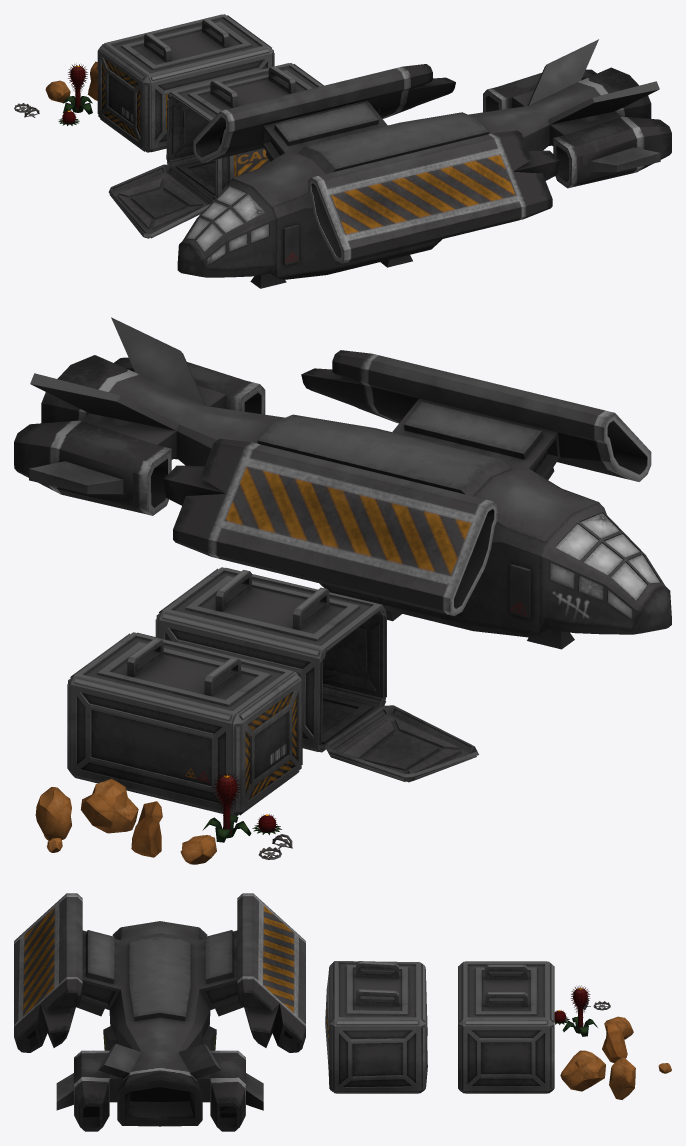
Rendered from AllAssets.fbx.
3 views of the same model, one above another, from view 1: azimuth 30°, elevation 25°; view 2: azimuth 150°, elevation 25°; view 3: azimuth 270°, elevation 25° (orthographic). The views are drawn at different scales.
Parts seen in each view (by area): view 1: Box003, Box002, Box001, Object001, Object002, Cylinder001, Rock1; view 2: Box003, Box002, Box001, Object002, Object001, Rock3, Rock4, Cylinder001, Rock2, Rock1; view 3: Box003, Box001, Box002, Rock3, Rock4, Cylinder001, Rock2.
Boxes of the visible parts, x1,y1,x2,y2 form: Box003: [177, 39, 671, 288]; Box002: [104, 14, 274, 152]; Box001: [166, 63, 323, 199]; Object001: [108, 164, 213, 238]; Object002: [97, 44, 150, 152]; Cylinder001: [63, 64, 92, 114]; Rock1: [45, 80, 70, 102]; Box003: [14, 317, 671, 649]; Box002: [67, 632, 293, 815]; Box001: [155, 567, 386, 752]; Object002: [231, 672, 302, 816]; Object001: [324, 705, 478, 782]; Rock3: [80, 778, 138, 833]; Rock4: [35, 787, 71, 840]; Cylinder001: [202, 773, 251, 842]; Rock2: [131, 801, 162, 857]; Rock1: [180, 835, 216, 864]; Box003: [14, 893, 305, 1131]; Box001: [325, 961, 427, 1093]; Box002: [458, 962, 554, 1093]; Rock3: [560, 1050, 605, 1091]; Rock4: [609, 1057, 635, 1099]; Cylinder001: [562, 985, 597, 1036]; Rock2: [602, 1022, 627, 1062].
Size of the model in its own units: 1214 by 387 by 1583.
